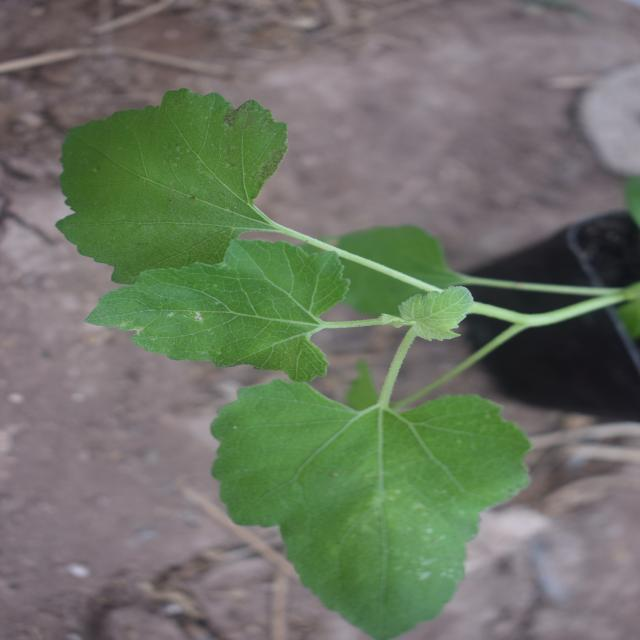cocklebur: (41, 133, 626, 562)
